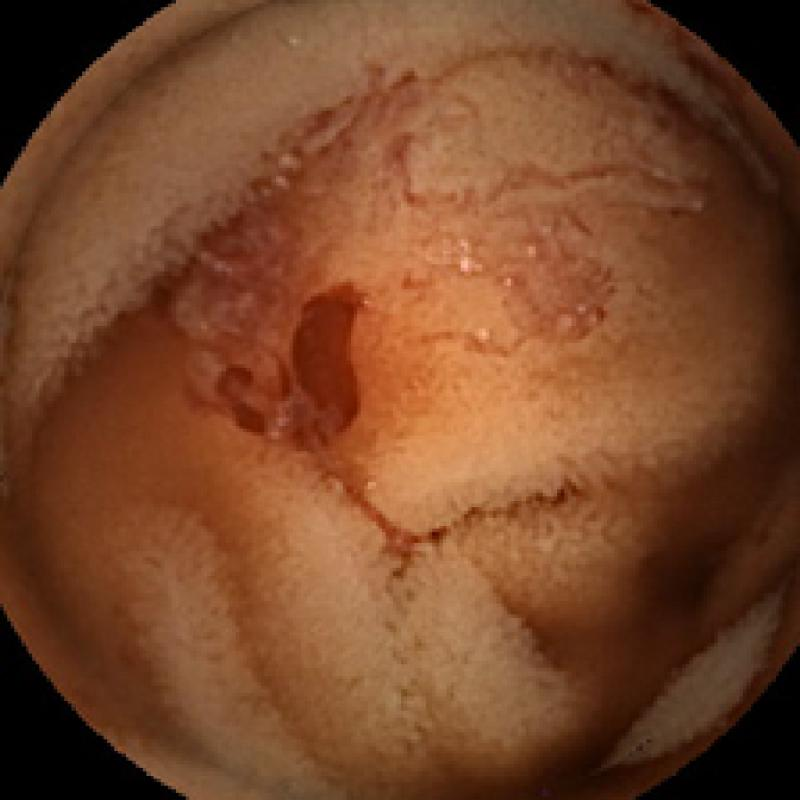bleeding: (214, 275, 386, 464)
